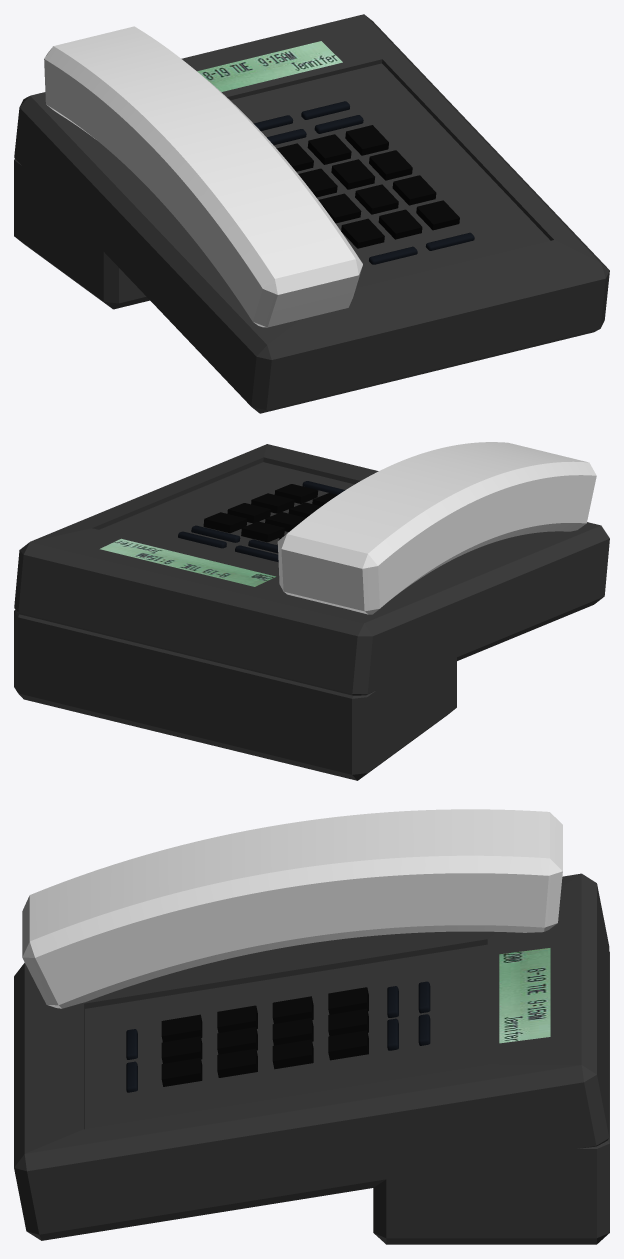
Rendered from Telefone.FBX.
The picture shows the model from 3 angles, top to bottom: view 1: azimuth 30°, elevation 25°; view 2: azimuth 150°, elevation 25°; view 3: azimuth 270°, elevation 25°; orthographic projection. The views are drawn at different scales.
Parts seen in each view (by area): view 1: Box019, Box018, Object001, Plane003, ChamferBox006; view 2: Box019, Box018, Object001, Plane003, ChamferBox006; view 3: Box019, Box018, Object001, Plane003, ChamferBox006.
Boxes of the visible parts, x1,y1,x2,y2 form: Box019: [14, 14, 609, 413]; Box018: [44, 26, 362, 327]; Object001: [276, 125, 459, 248]; Plane003: [197, 41, 342, 91]; ChamferBox006: [254, 101, 474, 264]; Box019: [14, 444, 609, 780]; Box018: [277, 442, 596, 614]; Object001: [203, 484, 337, 542]; Plane003: [99, 538, 275, 586]; ChamferBox006: [178, 481, 345, 562]; Box019: [14, 873, 609, 1244]; Box018: [22, 809, 562, 1008]; Object001: [161, 987, 368, 1086]; Plane003: [499, 948, 550, 1043]; ChamferBox006: [126, 981, 430, 1092].
Size of the model in its own units: 364 by 209 by 452.
4 materials, 1 textured.
